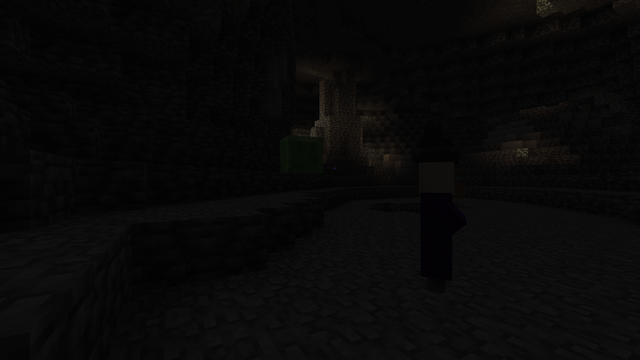slimes: (277, 133, 324, 173)
sorcieres: (407, 155, 467, 298)
